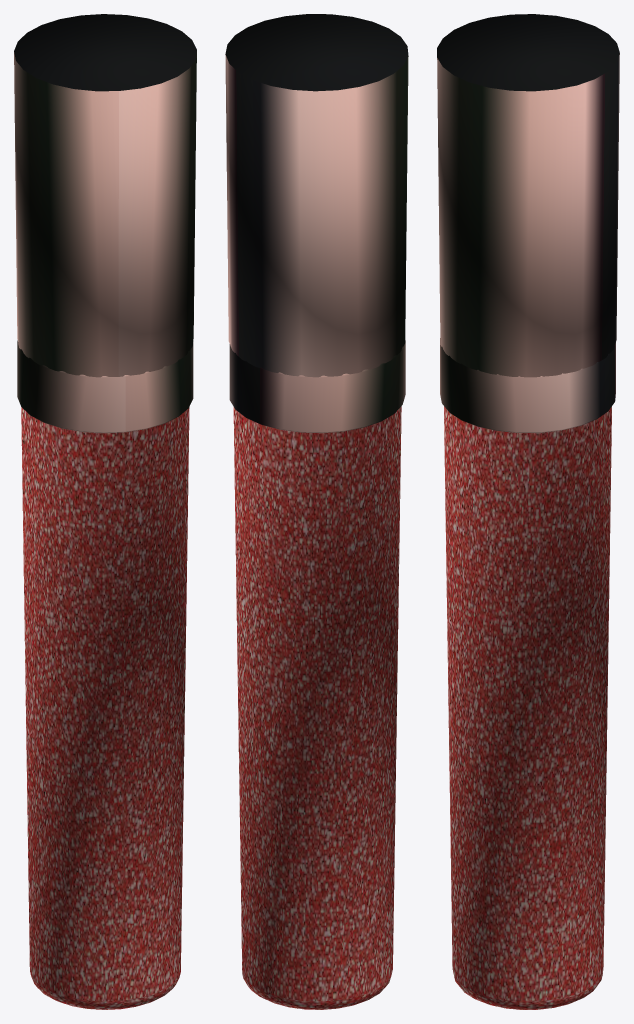
The model's file is glitter.fbx.
3 renders of one model, left to right at view 1: azimuth 30°, elevation 25°; view 2: azimuth 150°, elevation 25°; view 3: azimuth 270°, elevation 25°, orthographic.
Parts seen in each view (by area): view 1: base, cap; view 2: base, cap; view 3: base, cap.
Boxes of the visible parts, x1=… form: base: x1=17, y1=340, x2=193, y2=1009; cap: x1=14, y1=14, x2=196, y2=377; base: x1=229, y1=340, x2=405, y2=1009; cap: x1=225, y1=14, x2=408, y2=377; base: x1=440, y1=338, x2=615, y2=1009; cap: x1=437, y1=14, x2=619, y2=377.
Bounding box in the file's own units: 92.79 × 520 × 92.61.
Materials: 1 (1 with a texture image).
